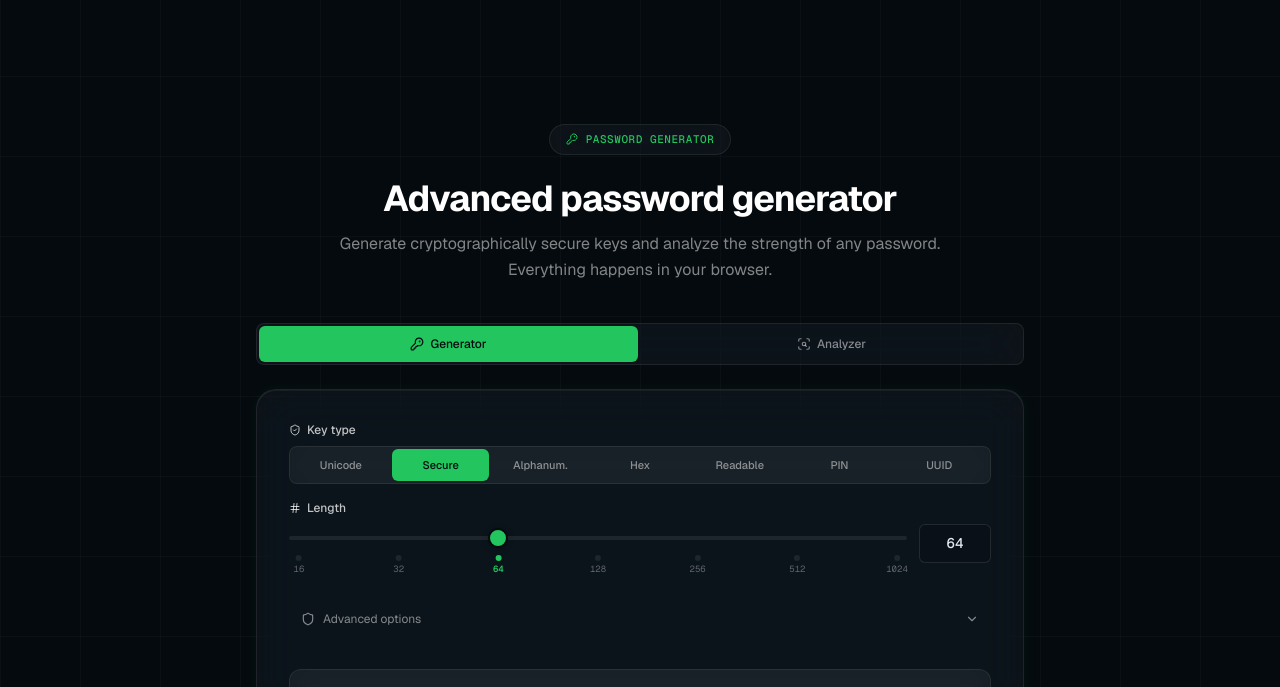
Test: GeneratorContent — key modes › offers the all-classes guarantee only for alphabets that have classes
Click the button "Advanced options": {"x": 372, "y": 619} [289, 601, 991, 637]
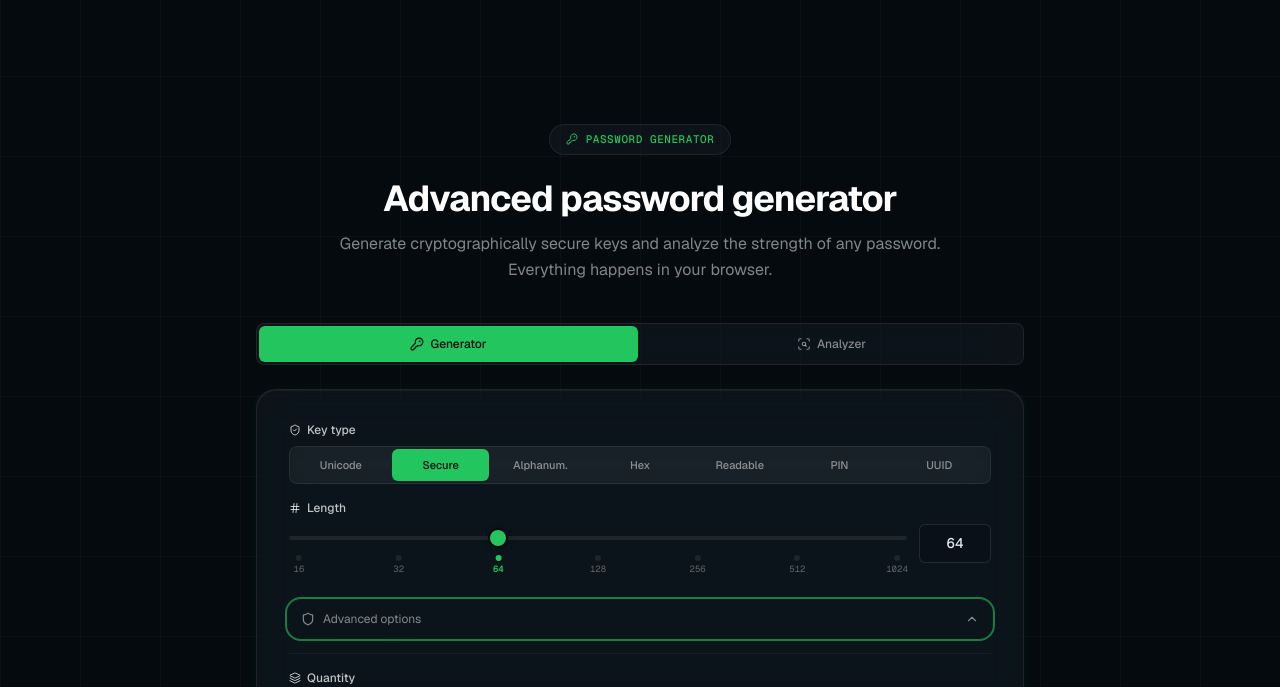
Now the button "Advanced options" is expanded, box [289, 601, 991, 637]
Click the button "Hex": {"x": 640, "y": 465} [591, 448, 689, 481]
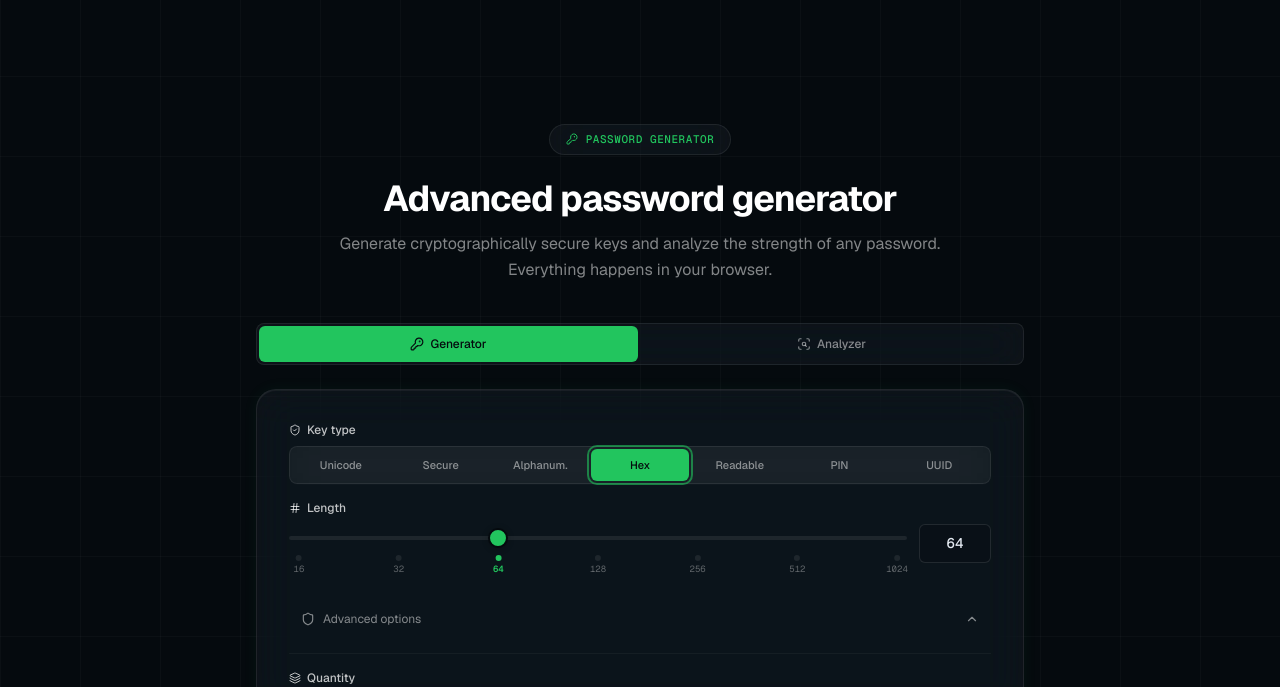
Expected: the switch labelled "Guarantee all classes" is not shown
Click the button "PIN": {"x": 839, "y": 465} [791, 448, 888, 481]
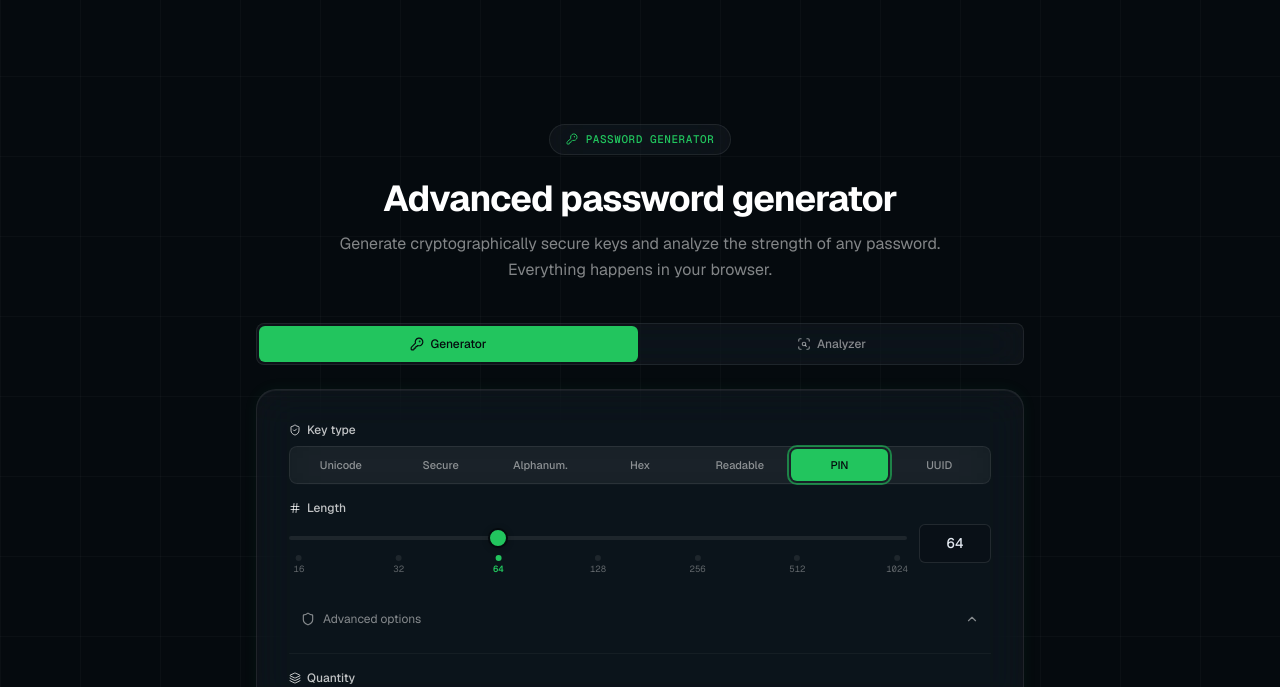
Expected: the switch labelled "Guarantee all classes" is not shown
Click the button "Readable": {"x": 740, "y": 465} [691, 448, 789, 481]
(page scrolled)
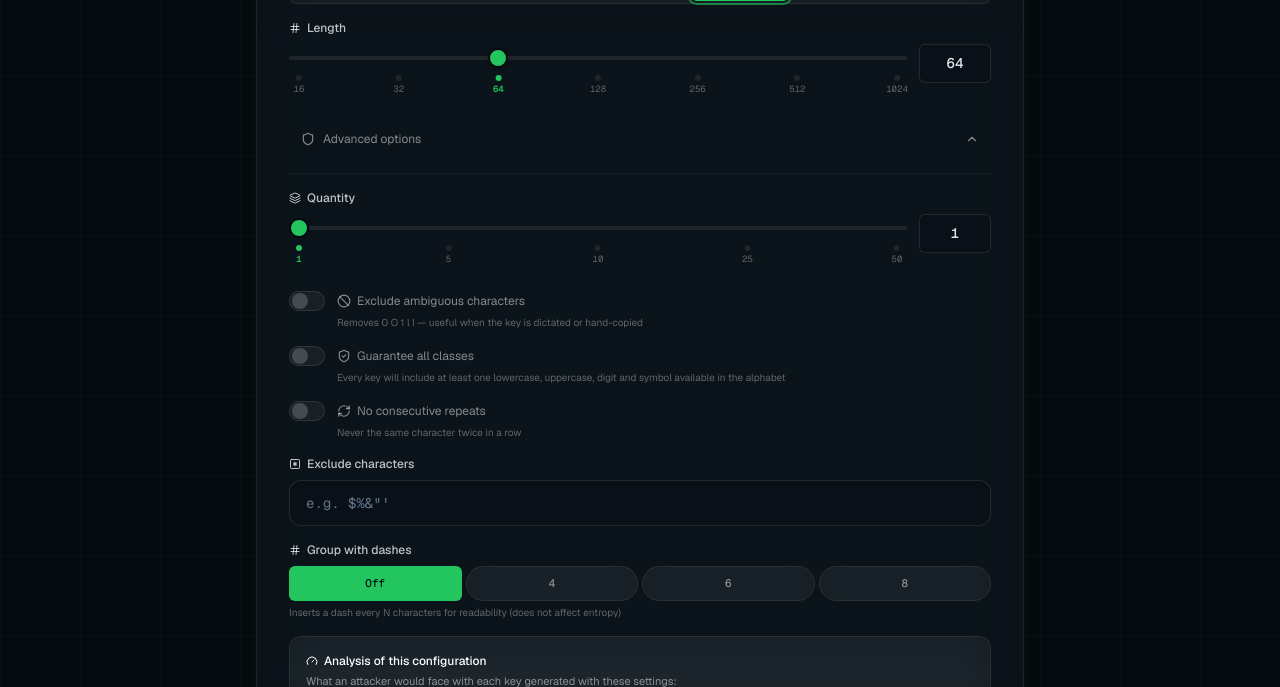
Now the switch named "Guarantee all classes" next to "Guarantee all classes" is shown, box [289, 346, 325, 366]
